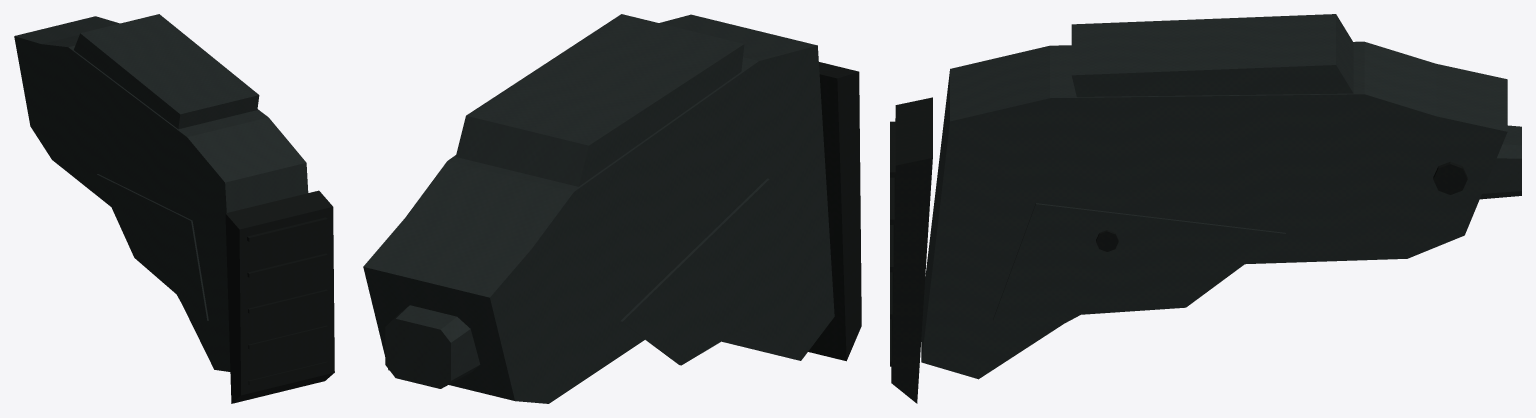
The model's file is bren_stock.glb.
The picture shows the model from 3 angles, left to right: view 1: azimuth 30°, elevation 25°; view 2: azimuth 150°, elevation 25°; view 3: azimuth 270°, elevation 25°; orthographic projection. The views are drawn at different scales.
Parts seen in each view (by area): view 1: stock__bren_stock_LOD0_RAID_Secondary_Original_polymer, stock__bren_stock_LOD1_RAID_Secondary_Original_polymer, stock__bren_stock_LOD0_RAID_Secondary_Original_rubber, stock__bren_stock_LOD1_RAID_Secondary_Original_rubber; view 2: stock__bren_stock_LOD0_RAID_Secondary_Original_polymer, stock__bren_stock_LOD1_RAID_Secondary_Original_polymer, stock__bren_stock_LOD1_RAID_Secondary_Original_rubber, stock__bren_stock_LOD0_RAID_Secondary_Original_rubber; view 3: stock__bren_stock_LOD0_RAID_Secondary_Original_polymer, stock__bren_stock_LOD1_RAID_Secondary_Original_polymer, stock__bren_stock_LOD1_RAID_Secondary_Original_rubber, stock__bren_stock_LOD0_RAID_Secondary_Original_rubber.
Boxes of the visible parts, x1,y1,x2,y2 form: stock__bren_stock_LOD0_RAID_Secondary_Original_polymer: [16, 14, 305, 368]; stock__bren_stock_LOD1_RAID_Secondary_Original_polymer: [14, 16, 308, 371]; stock__bren_stock_LOD0_RAID_Secondary_Original_rubber: [225, 198, 333, 402]; stock__bren_stock_LOD1_RAID_Secondary_Original_rubber: [225, 190, 334, 403]; stock__bren_stock_LOD0_RAID_Secondary_Original_polymer: [368, 14, 833, 397]; stock__bren_stock_LOD1_RAID_Secondary_Original_polymer: [363, 14, 834, 403]; stock__bren_stock_LOD1_RAID_Secondary_Original_rubber: [808, 62, 861, 361]; stock__bren_stock_LOD0_RAID_Secondary_Original_rubber: [810, 78, 859, 357]; stock__bren_stock_LOD0_RAID_Secondary_Original_polymer: [922, 14, 1521, 372]; stock__bren_stock_LOD1_RAID_Secondary_Original_polymer: [921, 41, 1507, 379]; stock__bren_stock_LOD1_RAID_Secondary_Original_rubber: [891, 97, 932, 403]; stock__bren_stock_LOD0_RAID_Secondary_Original_rubber: [890, 121, 1467, 399].
Size of the model in its own units: 0.1 by 0.258 by 0.442.
2 materials, 2 textured.
